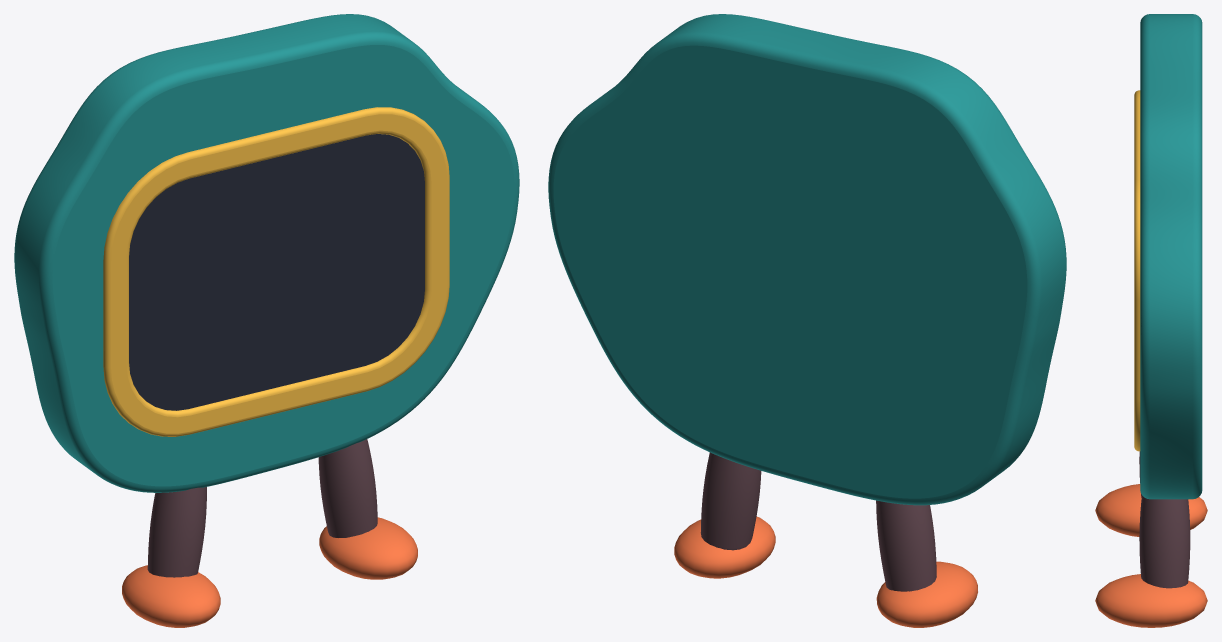
The model's file is BB_BLOB_2.glb.
3 renders of one model, left to right at view 1: azimuth 30°, elevation 25°; view 2: azimuth 150°, elevation 25°; view 3: azimuth 270°, elevation 25°, orthographic. The views are drawn at different scales.
Visible parts, largest first — view 1: BB_BLOB_2_body, BB_BLOB_2_FACE, BB_BLOB_2_frame, BB_BLOB_2_legR, BB_BLOB_2_legL, BB_BLOB_2_shoeL, BB_BLOB_2_shoeR; view 2: BB_BLOB_2_body, BB_BLOB_2_legL, BB_BLOB_2_legR, BB_BLOB_2_shoeL, BB_BLOB_2_shoeR; view 3: BB_BLOB_2_body, BB_BLOB_2_legR, BB_BLOB_2_shoeR, BB_BLOB_2_frame, BB_BLOB_2_shoeL.
Part boxes in pixels (<box>): BB_BLOB_2_body: <box>14,14,519,492</box>; BB_BLOB_2_FACE: <box>129,134,424,410</box>; BB_BLOB_2_frame: <box>103,107,449,436</box>; BB_BLOB_2_legR: <box>318,439,377,537</box>; BB_BLOB_2_legL: <box>147,487,206,577</box>; BB_BLOB_2_shoeL: <box>122,565,220,627</box>; BB_BLOB_2_shoeR: <box>319,517,417,579</box>; BB_BLOB_2_body: <box>548,14,1066,505</box>; BB_BLOB_2_legL: <box>876,500,936,591</box>; BB_BLOB_2_legR: <box>700,452,761,550</box>; BB_BLOB_2_shoeL: <box>876,561,977,627</box>; BB_BLOB_2_shoeR: <box>674,516,775,578</box>; BB_BLOB_2_body: <box>1140,14,1202,499</box>; BB_BLOB_2_legR: <box>1139,495,1190,588</box>; BB_BLOB_2_shoeR: <box>1095,574,1207,627</box>; BB_BLOB_2_frame: <box>1134,90,1140,451</box>; BB_BLOB_2_shoeL: <box>1095,484,1207,536</box>.
Bounding box in the file's own units: 9.67 × 10.51 × 2.1.
